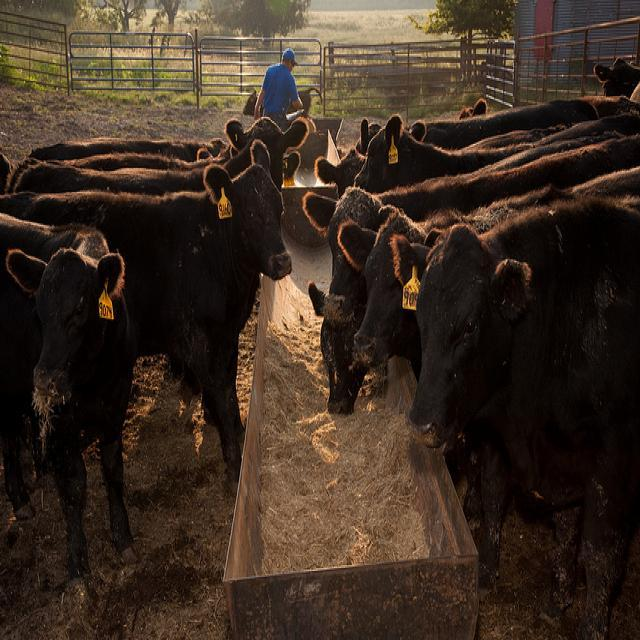cow: (390, 192, 639, 629), (0, 135, 294, 501), (307, 159, 639, 421), (301, 132, 639, 322), (0, 202, 145, 601), (12, 114, 307, 190), (335, 208, 441, 378), (352, 111, 534, 192), (7, 144, 235, 189), (420, 96, 596, 148), (28, 136, 233, 159), (315, 144, 363, 201), (593, 57, 638, 100)
